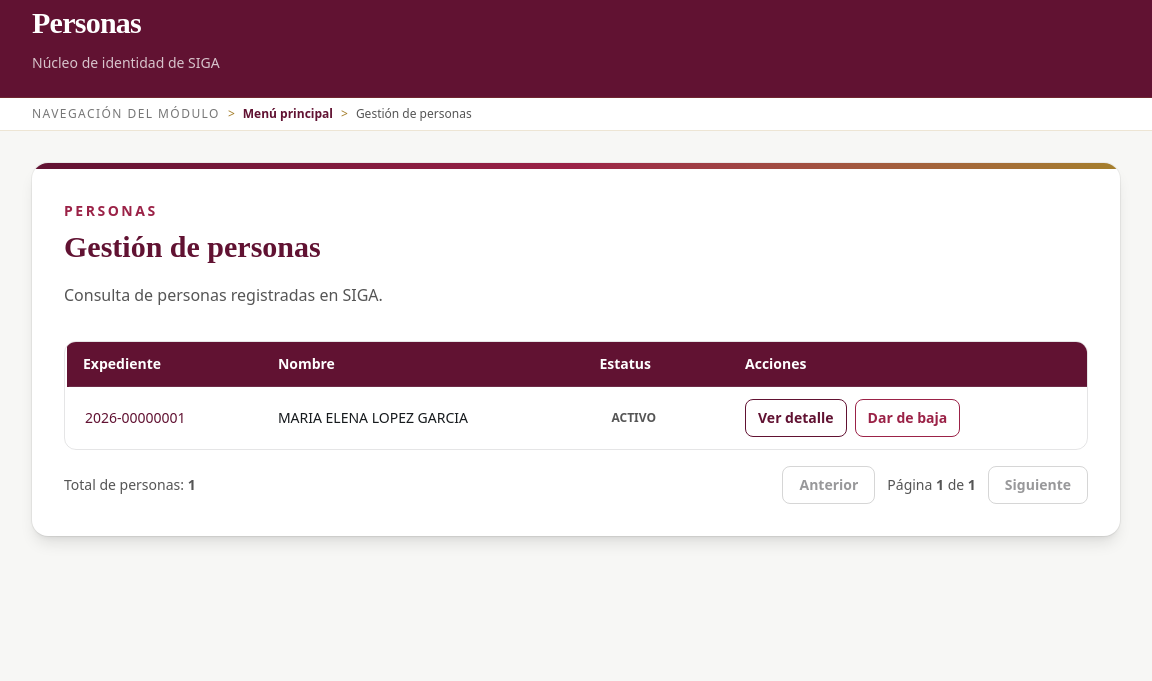
PersonasPageComponent › cancela la baja y cierra la confirmacion sin modificar la persona
The width and height of the screenshot is (1152, 681).
Click the button with test id "persona-withdraw": {"x": 907, "y": 418} left=855, top=399, right=960, bottom=437
(page scrolled)
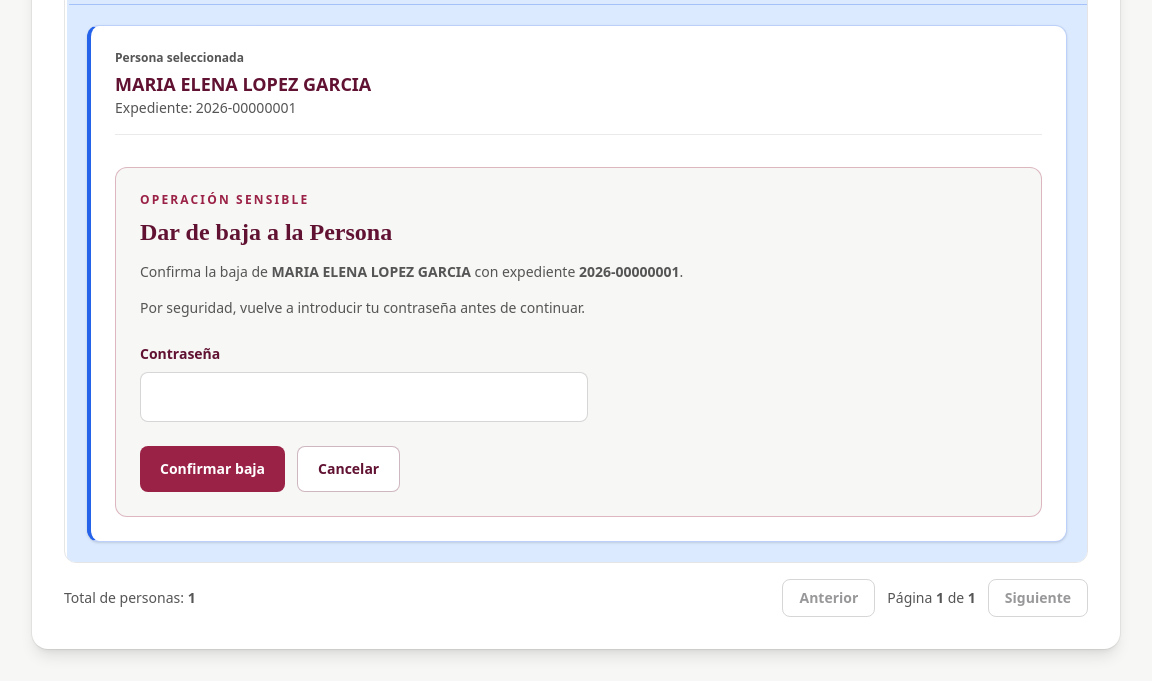
In the password field with test id "persona-withdraw-password": {"x": 364, "y": 397} left=140, top=372, right=588, bottom=422, type "contraseña-de-prueba"
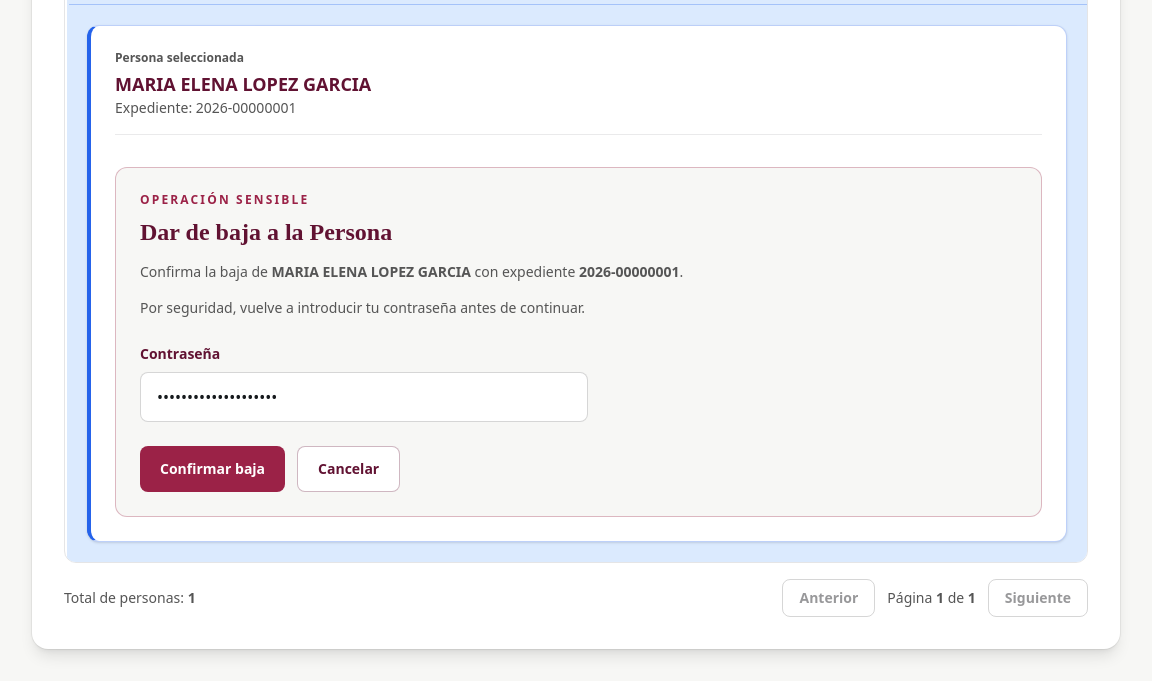
Expected: the button with test id "persona-withdraw-cancel" is shown
Click the button with test id "persona-withdraw-cancel": {"x": 349, "y": 469} left=297, top=446, right=400, bottom=492
(page scrolled)
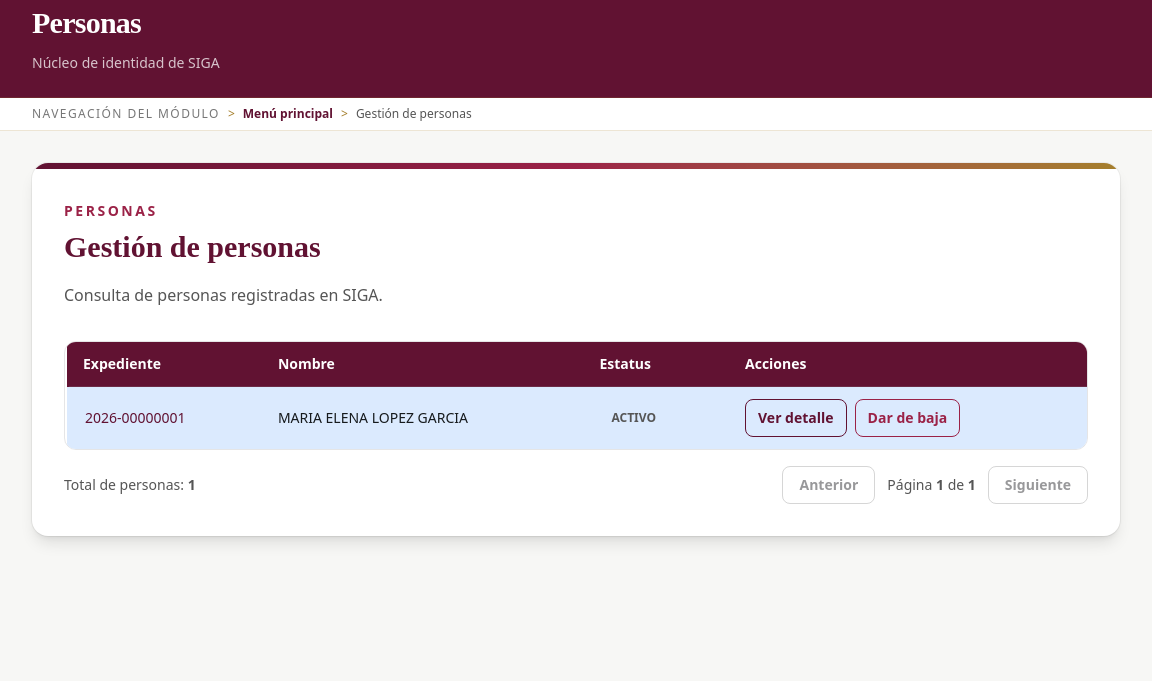
Expected: the form with test id "persona-withdraw-form" is gone
